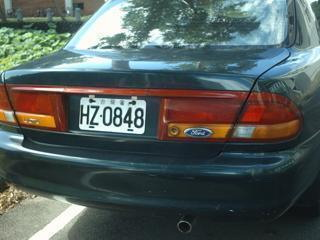plate: (77, 92, 146, 136)
